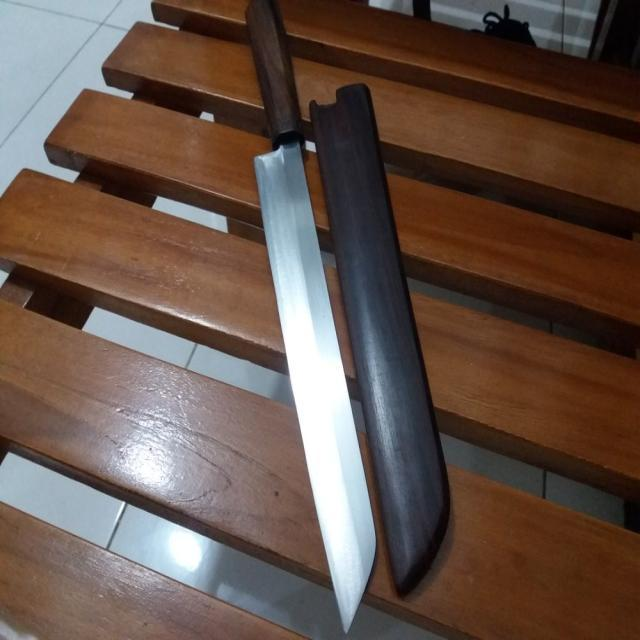Pisau: (245, 1, 386, 632)
